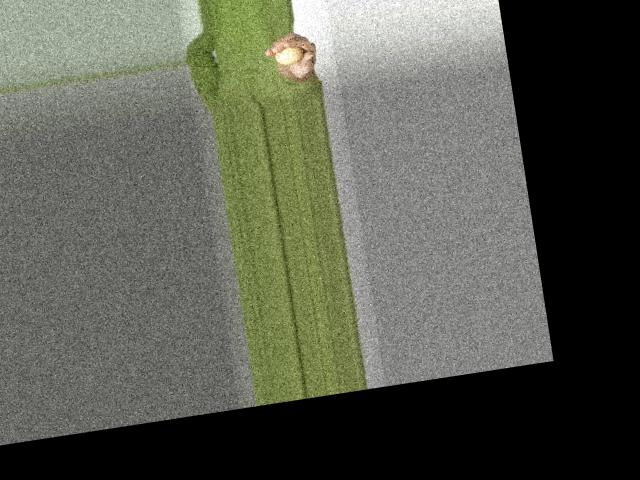egg: (272, 44, 304, 66)
